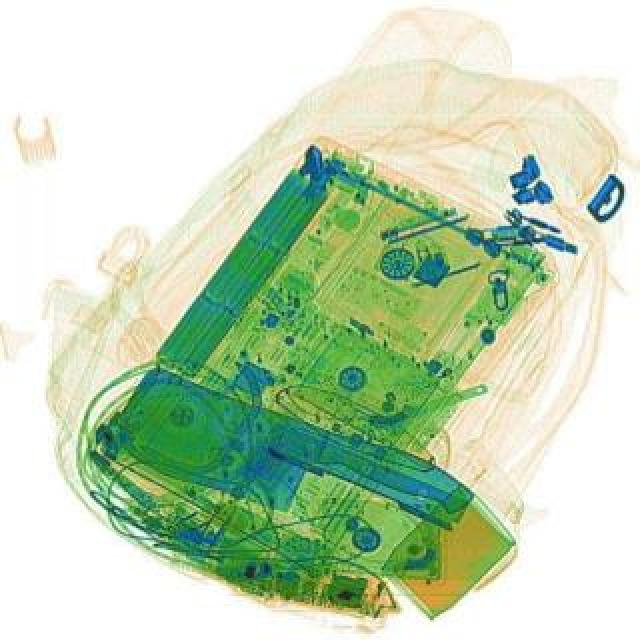knife: (106, 358, 478, 572)
